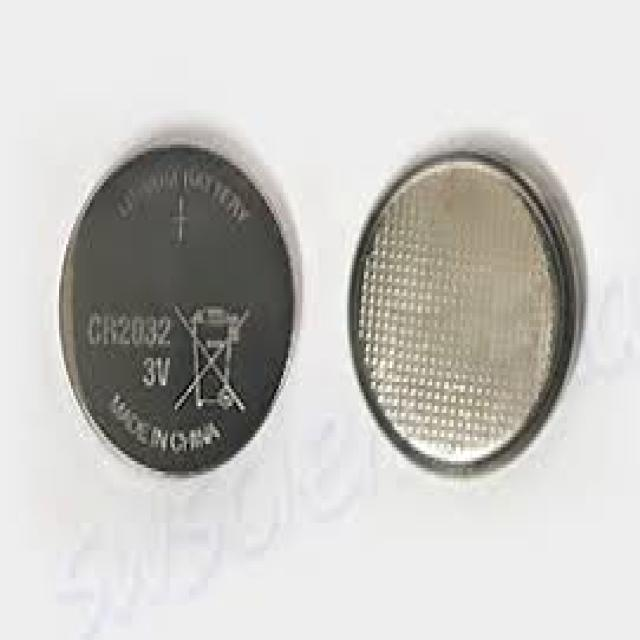COIN: (39, 120, 310, 487), (338, 126, 586, 485)
